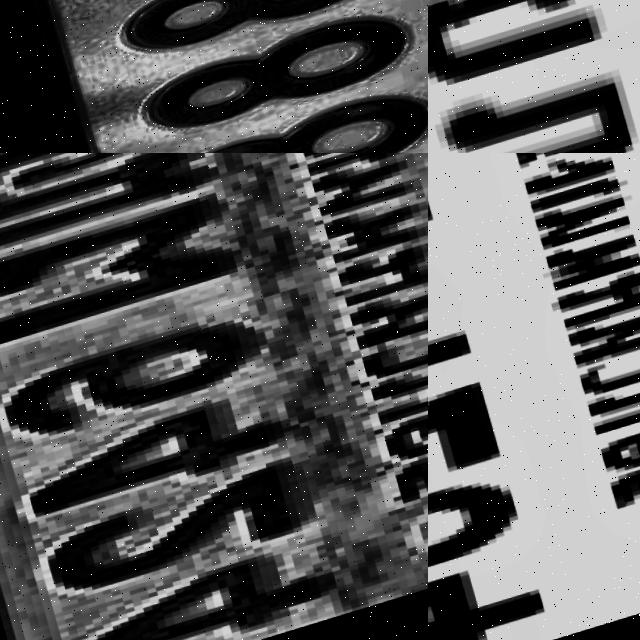license-plate: (0, 153, 428, 640), (428, 153, 640, 640), (0, 0, 428, 153), (428, 0, 640, 153)
